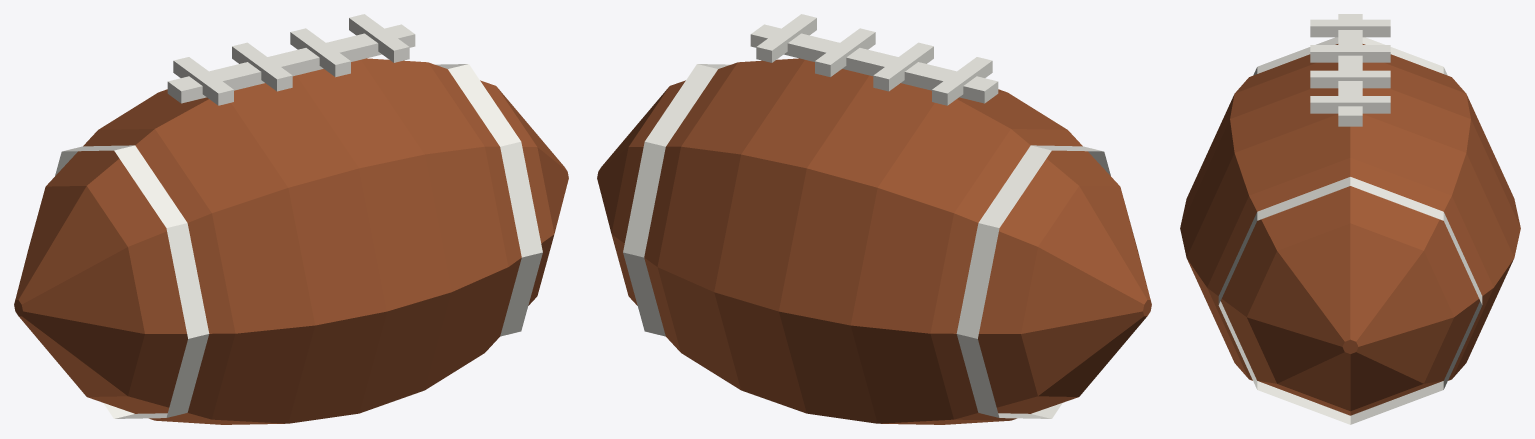
File: GS_Football_01.glb
3 renders of one model, left to right at view 1: azimuth 30°, elevation 25°; view 2: azimuth 150°, elevation 25°; view 3: azimuth 270°, elevation 25°, orthographic. The views are drawn at different scales.
Parts seen in each view (by area): view 1: GS_Football_01; view 2: GS_Football_01; view 3: GS_Football_01.
Part boxes in pixels (x1,y1,x2,y2): GS_Football_01: (14, 14, 568, 424); GS_Football_01: (597, 14, 1151, 424); GS_Football_01: (1180, 14, 1520, 424).
Size of the model in its own units: 0.28 by 0.177 by 0.17.
1 material, 1 textured.
